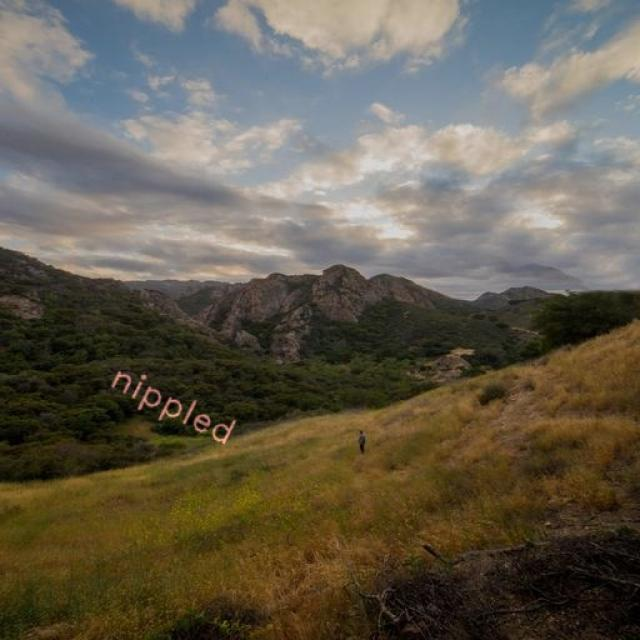watermark: (99, 357, 252, 452)
